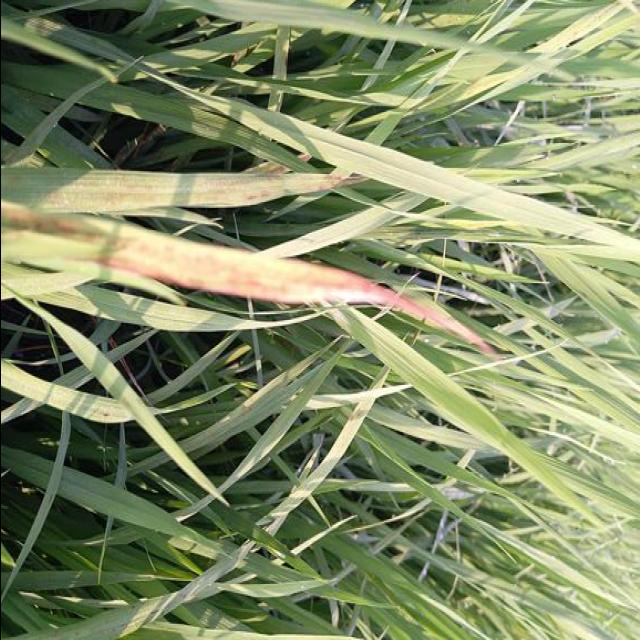Leaf Streak: (6, 204, 487, 352)
